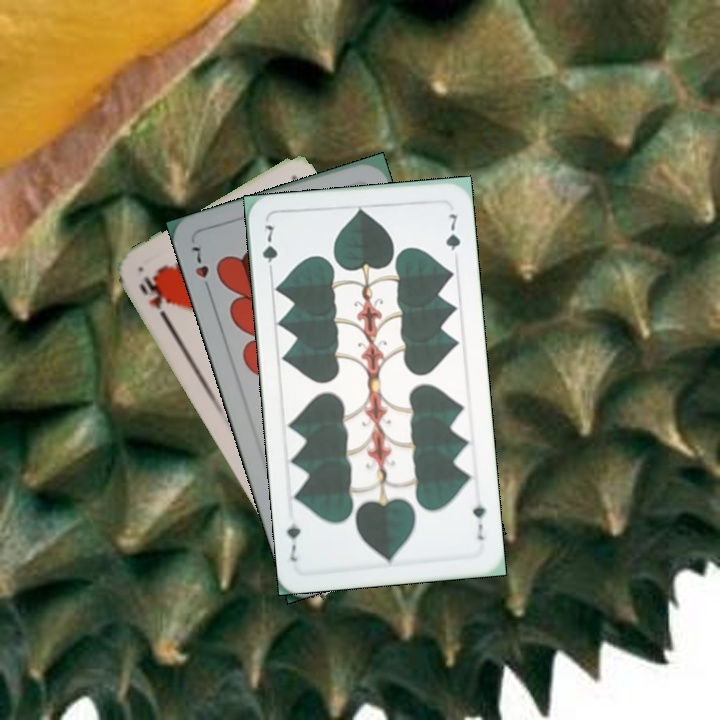G7: (258, 221, 280, 278), (468, 499, 488, 543)
H7: (187, 242, 214, 297)
HO: (135, 272, 171, 325)
